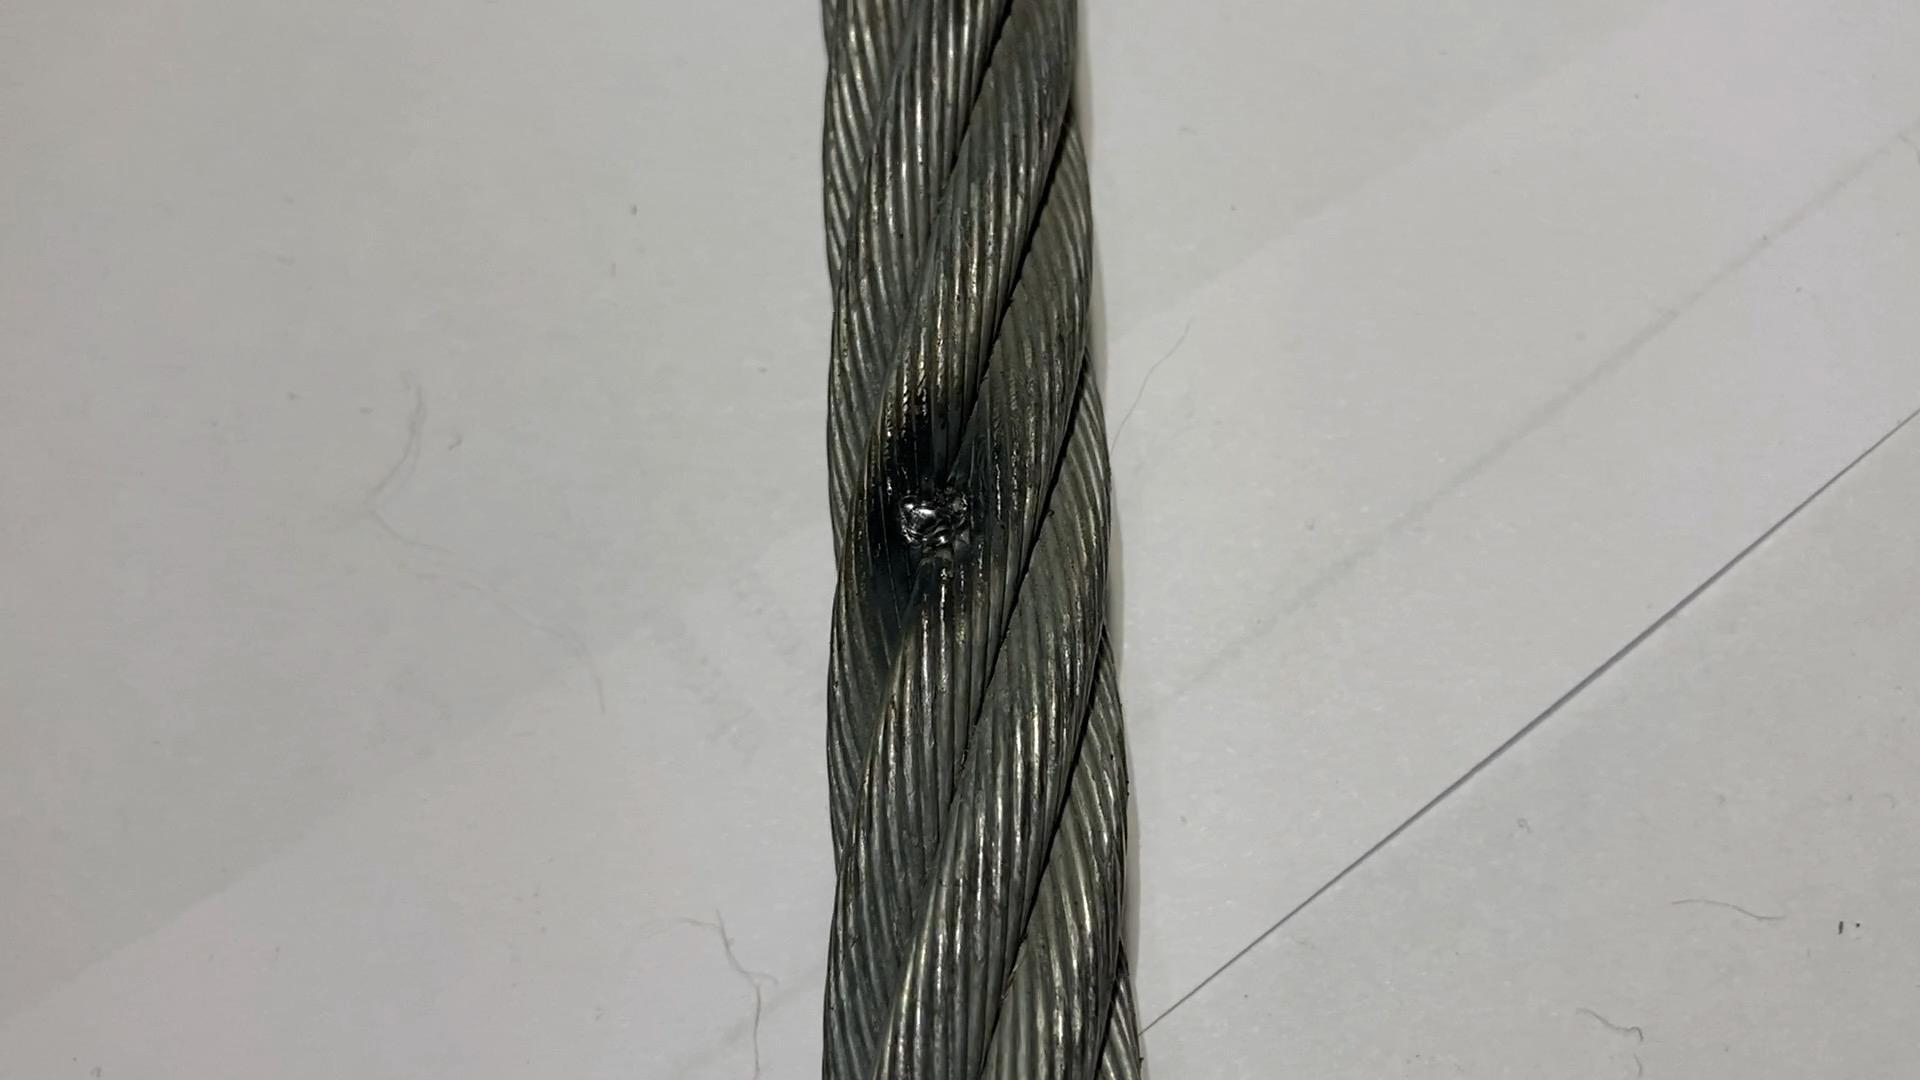thunderbolt: (887, 467, 1031, 587)
